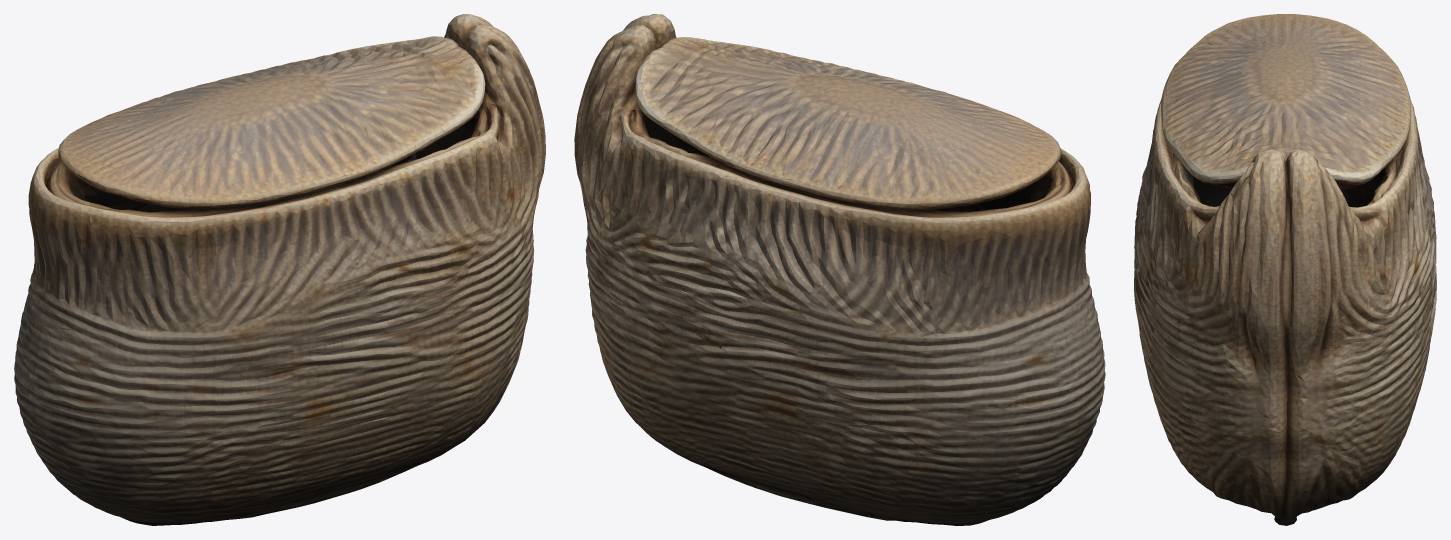
3 views of the same model, side by side, from view 1: azimuth 30°, elevation 25°; view 2: azimuth 150°, elevation 25°; view 3: azimuth 270°, elevation 25° (orthographic). The views are drawn at different scales.
Visible parts, largest first — view 1: world; view 2: world; view 3: world.
Part boxes in pixels (x1,y1,x2,y2): world: [14, 14, 545, 525]; world: [574, 14, 1105, 525]; world: [1134, 14, 1436, 525].
Bounding box in the file's own units: 0.9997 × 0.8049 × 0.5466.
Materials: 1 (1 with a texture image).
